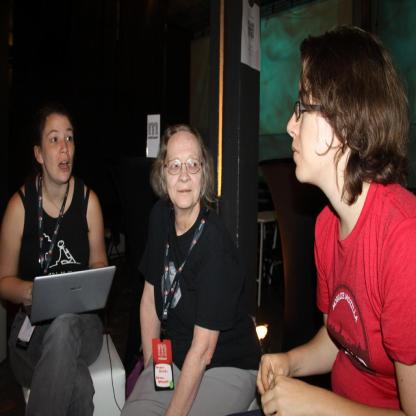board: (22, 263, 116, 325)
